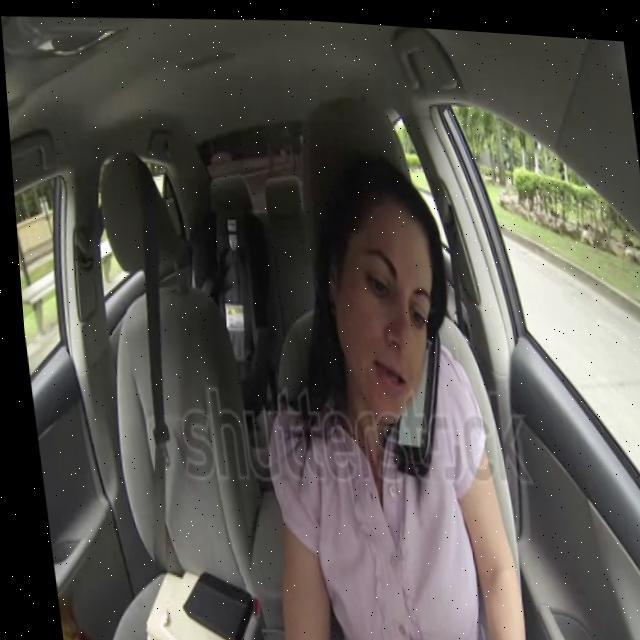PhoneCall: (374, 317, 448, 479)
